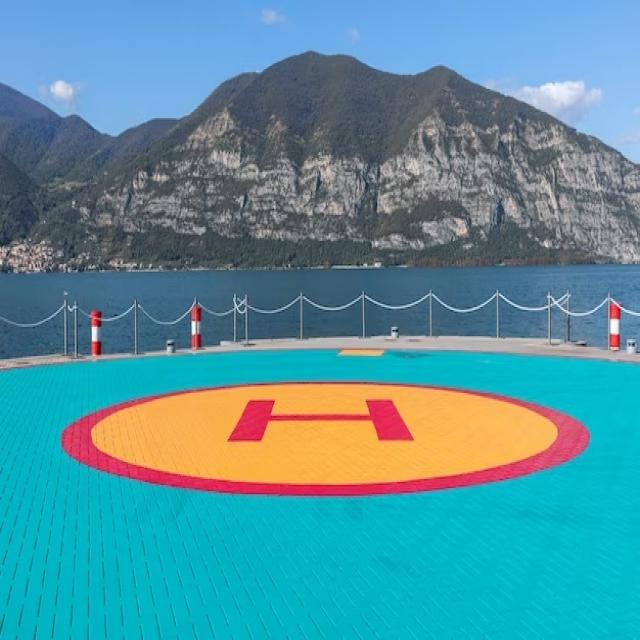helipad: (55, 376, 592, 500)
